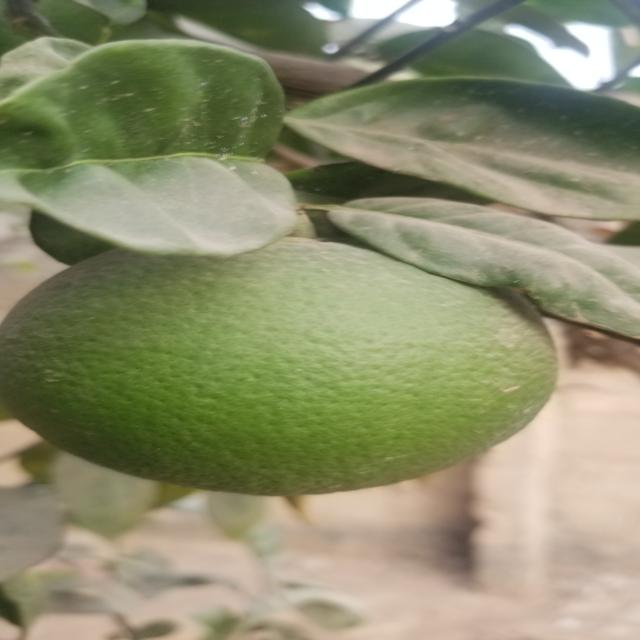Unripe: (4, 243, 558, 495)
